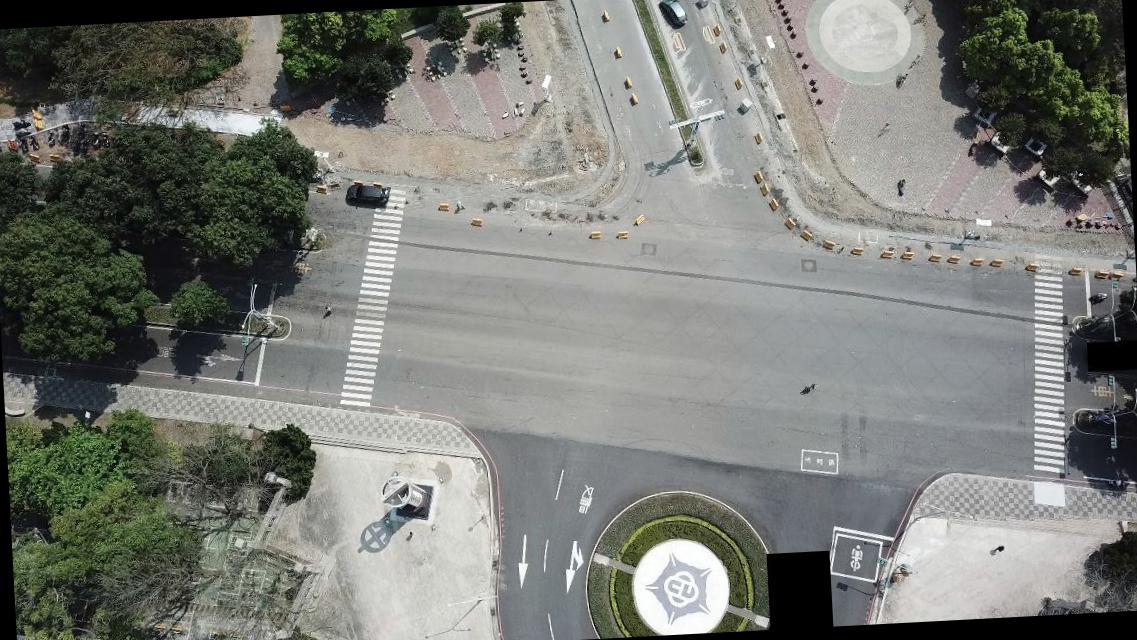vehicle: (344, 184, 392, 208), (658, 0, 689, 29)
